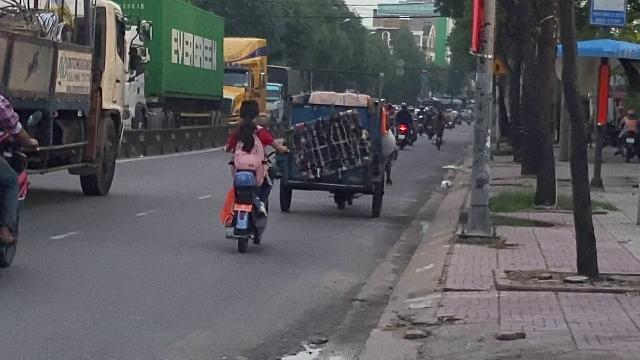motorcyclist: (218, 98, 276, 252)
nohelmet: (236, 98, 260, 124)
